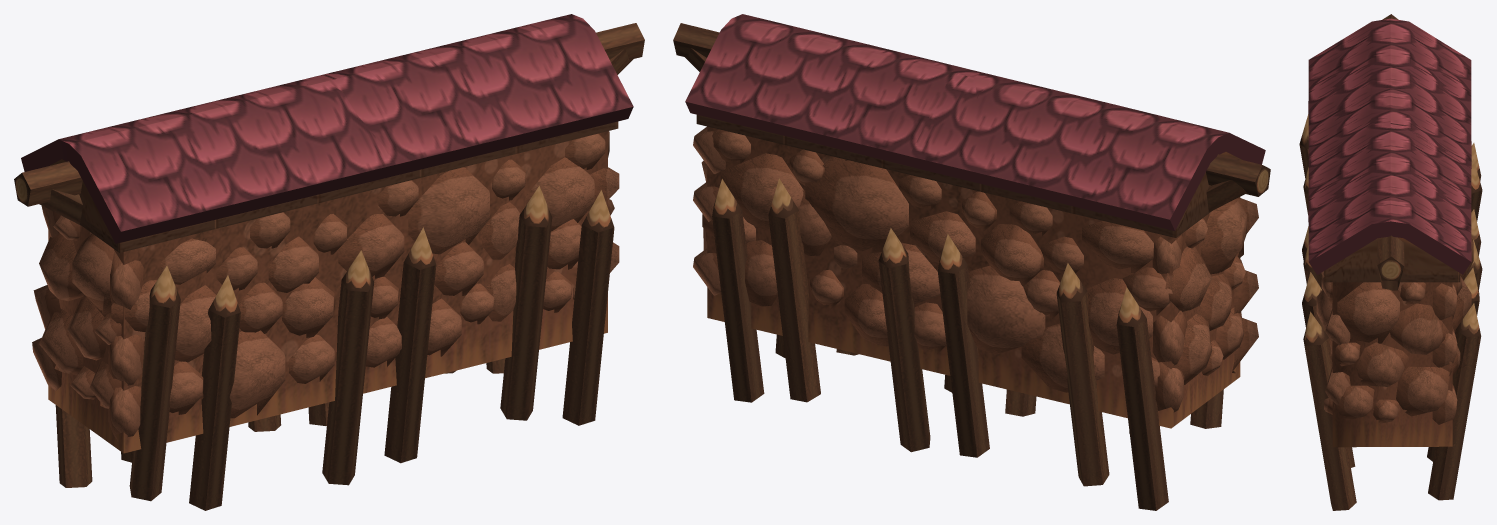
Rendered from lvl3_3x3.fbx.
3 views of the same model, side by side, from view 1: azimuth 30°, elevation 25°; view 2: azimuth 150°, elevation 25°; view 3: azimuth 270°, elevation 25° (orthographic). The views are drawn at different scales.
Parts seen in each view (by area): view 1: polySurface410; view 2: polySurface410; view 3: polySurface410.
Part boxes in pixels (box(x1,y1,x2,y2)): polySurface410: box(14, 14, 644, 510); polySurface410: box(673, 14, 1270, 510); polySurface410: box(1299, 14, 1482, 510).
Bounding box in the file's own units: 28.35 × 16.45 × 9.01.
